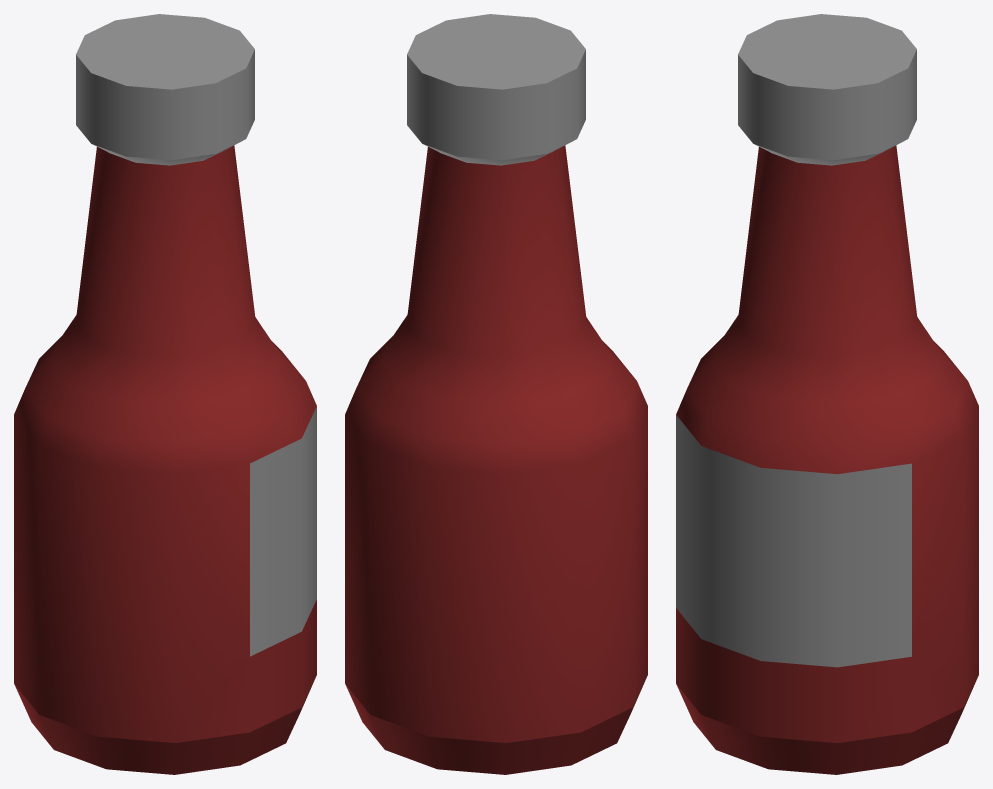
The model's file is bottle_ketchup_01.fbx.
The picture shows the model from 3 angles, left to right: view 1: azimuth 30°, elevation 25°; view 2: azimuth 150°, elevation 25°; view 3: azimuth 270°, elevation 25°; orthographic projection.
Visible parts, largest first — view 1: bottle_ketchup_01; view 2: bottle_ketchup_01; view 3: bottle_ketchup_01.
Part boxes in pixels (x1,y1,x2,y2): bottle_ketchup_01: [14, 14, 316, 774]; bottle_ketchup_01: [345, 14, 647, 774]; bottle_ketchup_01: [676, 14, 978, 774].
Bounding box in the file's own units: 25.08 × 60.89 × 25.08.
